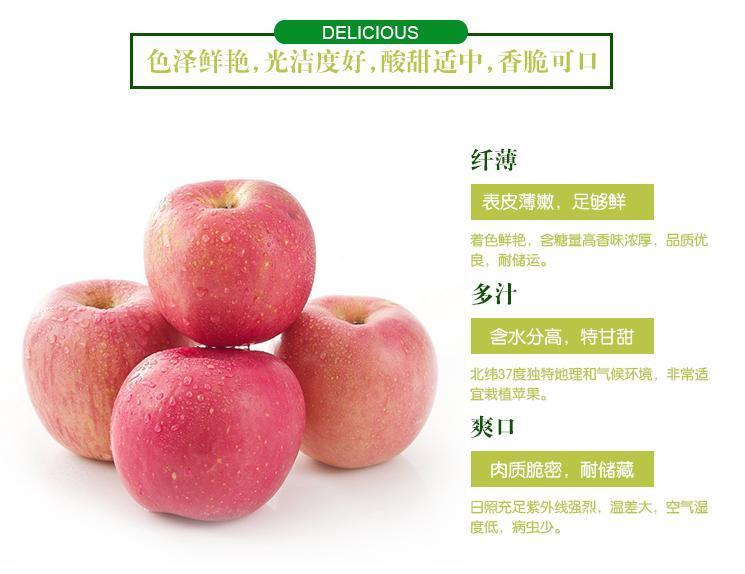apple: (116, 349, 310, 522), (271, 292, 440, 471), (21, 276, 184, 461), (143, 176, 317, 347)
